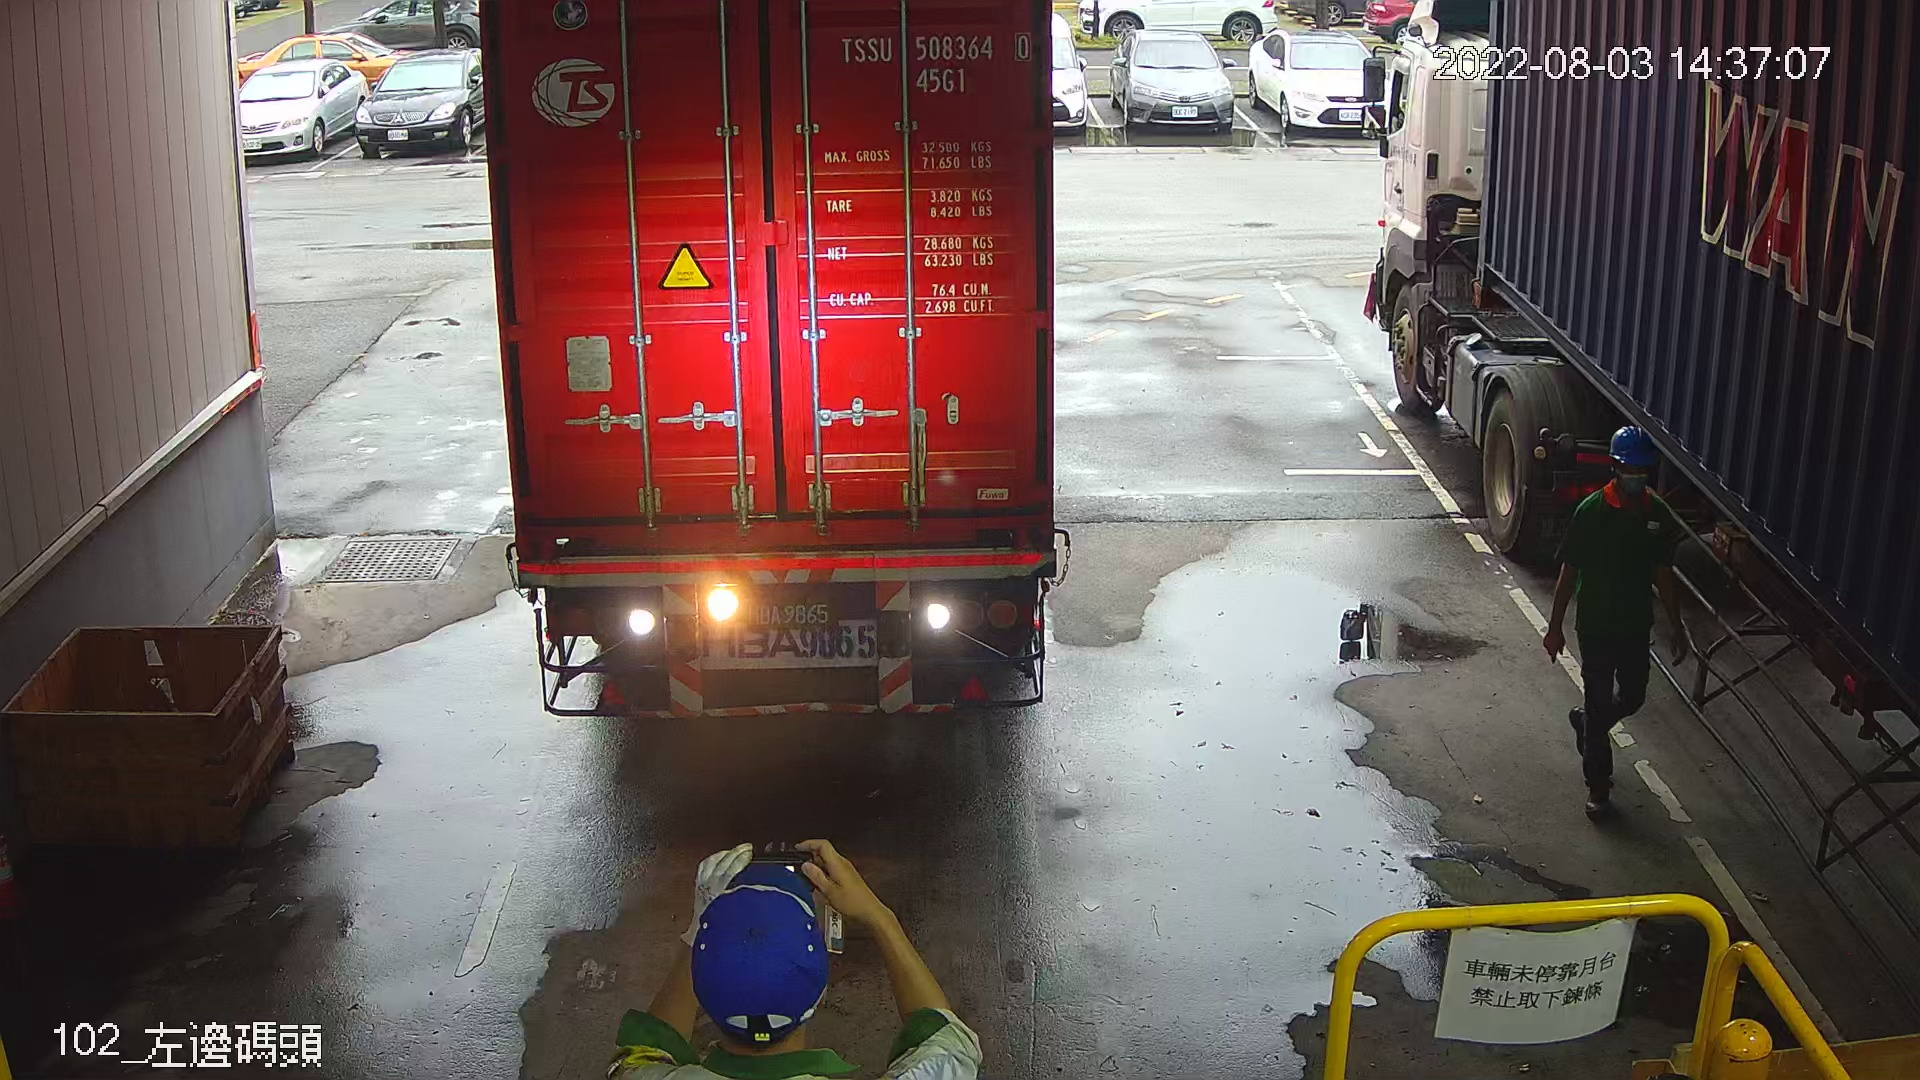container: (832, 26, 1042, 102)
